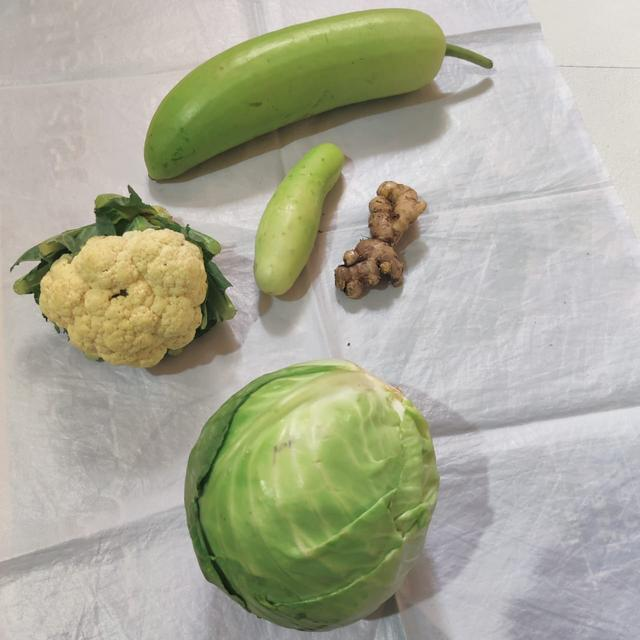Organik: (185, 364, 433, 632), (143, 13, 488, 127), (28, 198, 226, 366), (253, 144, 339, 304), (341, 182, 424, 304)
